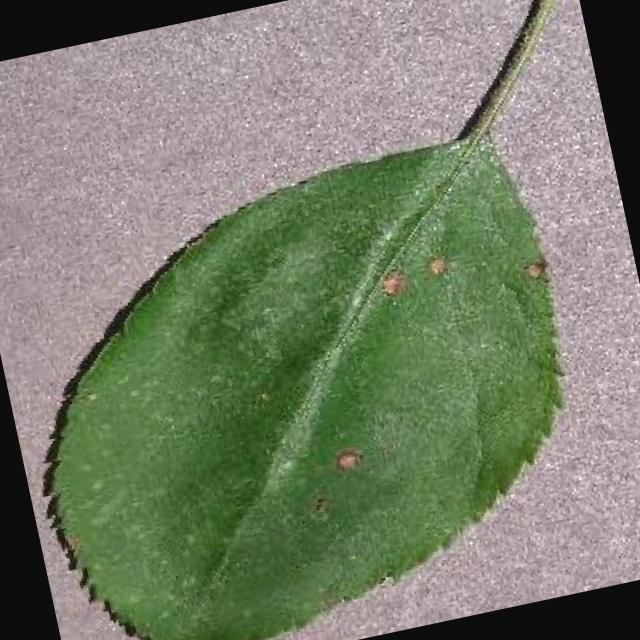leaf_spot: (50, 0, 560, 640)
